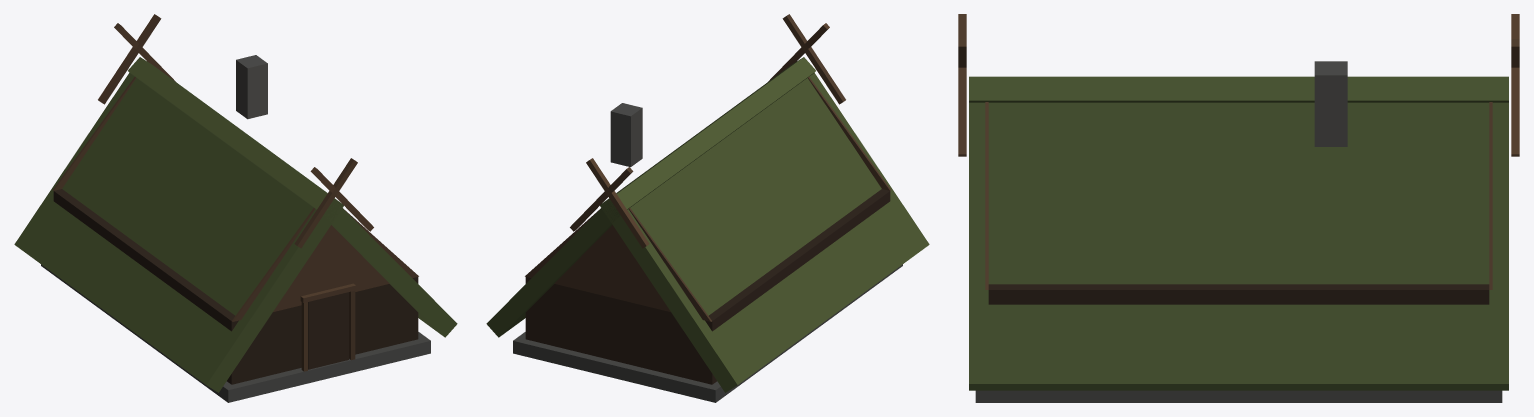
Rendered from rime_house.glb.
The picture shows the model from 3 angles, left to right: view 1: azimuth 30°, elevation 25°; view 2: azimuth 150°, elevation 25°; view 3: azimuth 270°, elevation 25°; orthographic projection. The views are drawn at different scales.
Visible parts, largest first — view 1: rime_house; view 2: rime_house; view 3: rime_house.
Boxes of the visible parts, box(x1,y1,x2,y2) form: rime_house: box(14, 14, 457, 402); rime_house: box(486, 14, 929, 402); rime_house: box(958, 14, 1519, 402).
Bounding box in the file's own units: 6.2 × 5.14 × 8.53.
Materials: 1 (1 with a texture image).
